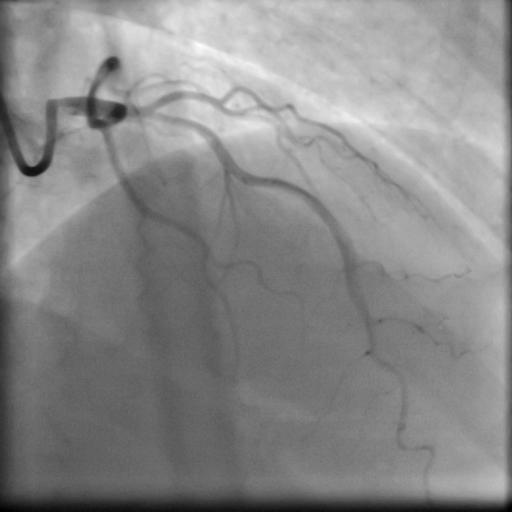Stenosis: (142, 107, 190, 126)
